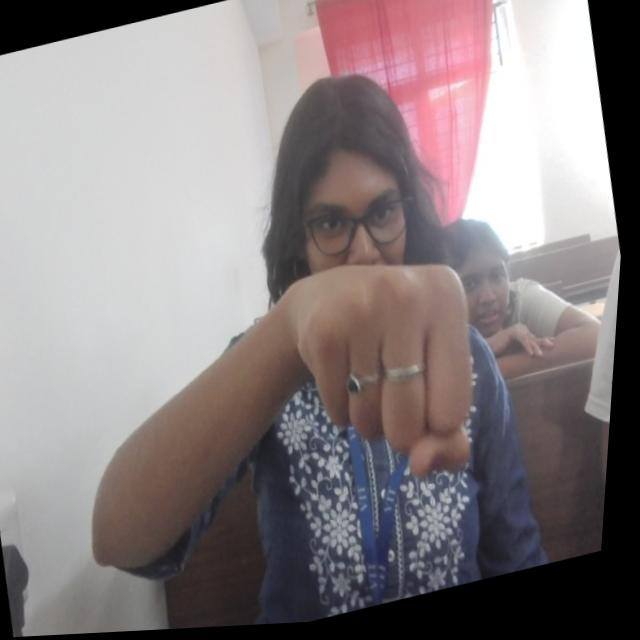yes: (274, 236, 514, 516)
